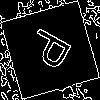P: (25, 25, 81, 77)
